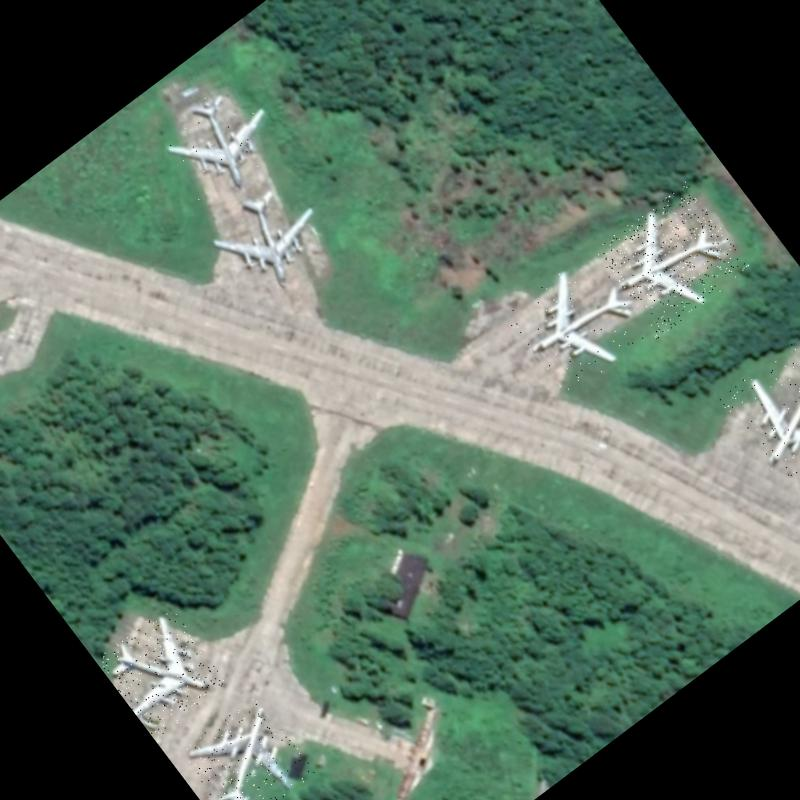A17: (590, 181, 752, 340), (501, 245, 656, 399), (194, 165, 342, 312), (150, 70, 296, 214), (95, 604, 229, 740), (178, 693, 316, 800), (718, 331, 800, 486)
